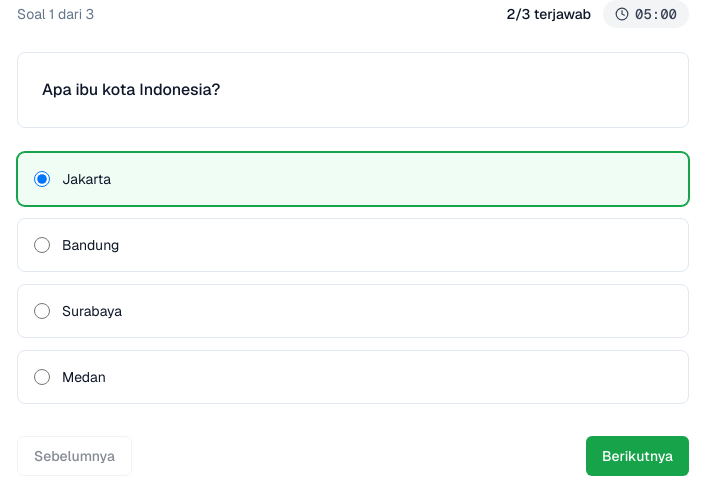
QuizComponent › disables submit button until all questions answered
The image size is (707, 493).
# Navigate to last question
Click the button "Berikutnya".
click(638, 456)  # box [586,436,689,476]
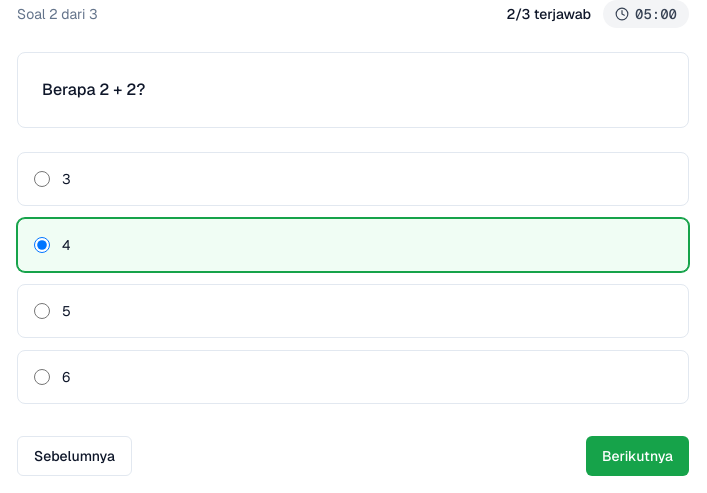
Click the button "Berikutnya".
click(638, 456)  # box [586,436,689,476]
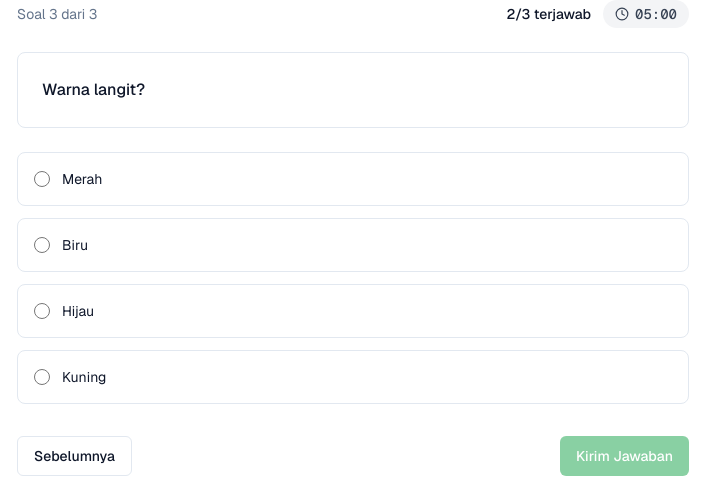
Now the button "Kirim Jawaban" is disabled, box [560,436,689,476]
